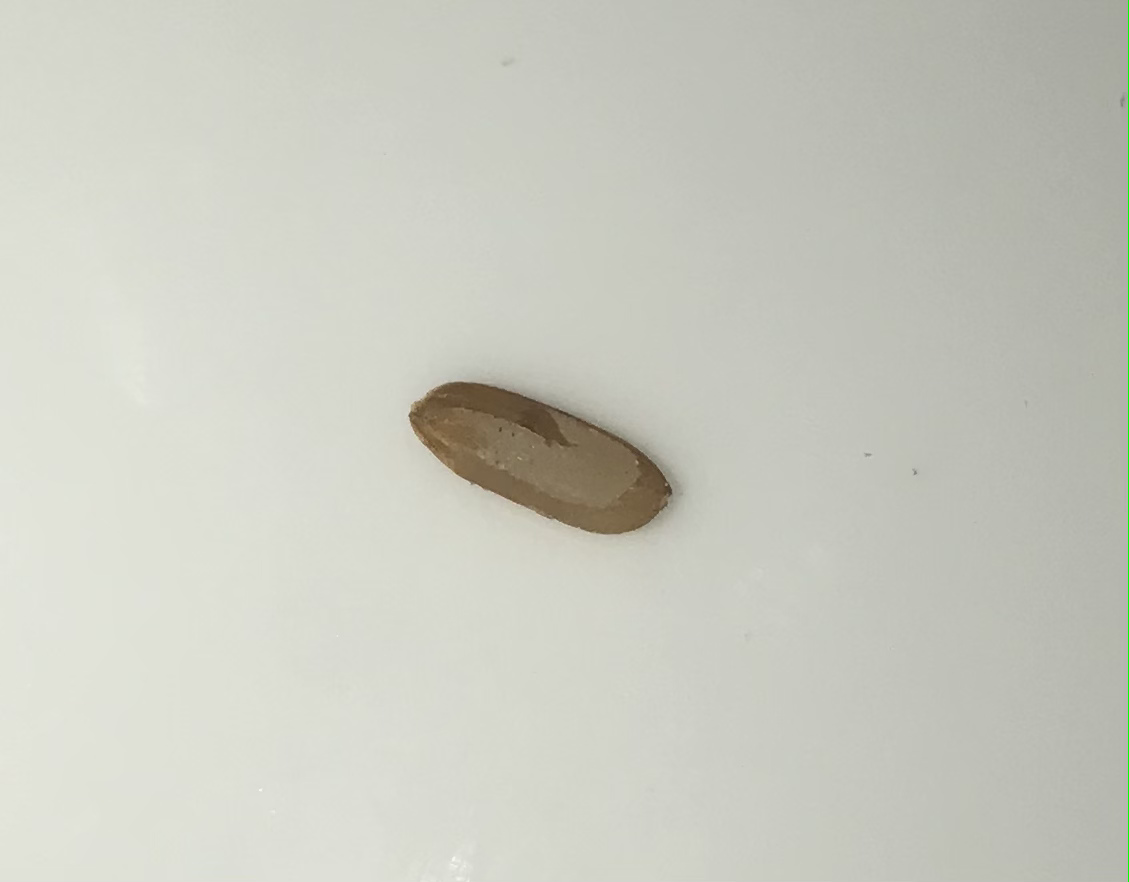Gao Lut Dien Bien: (401, 366, 683, 542)
